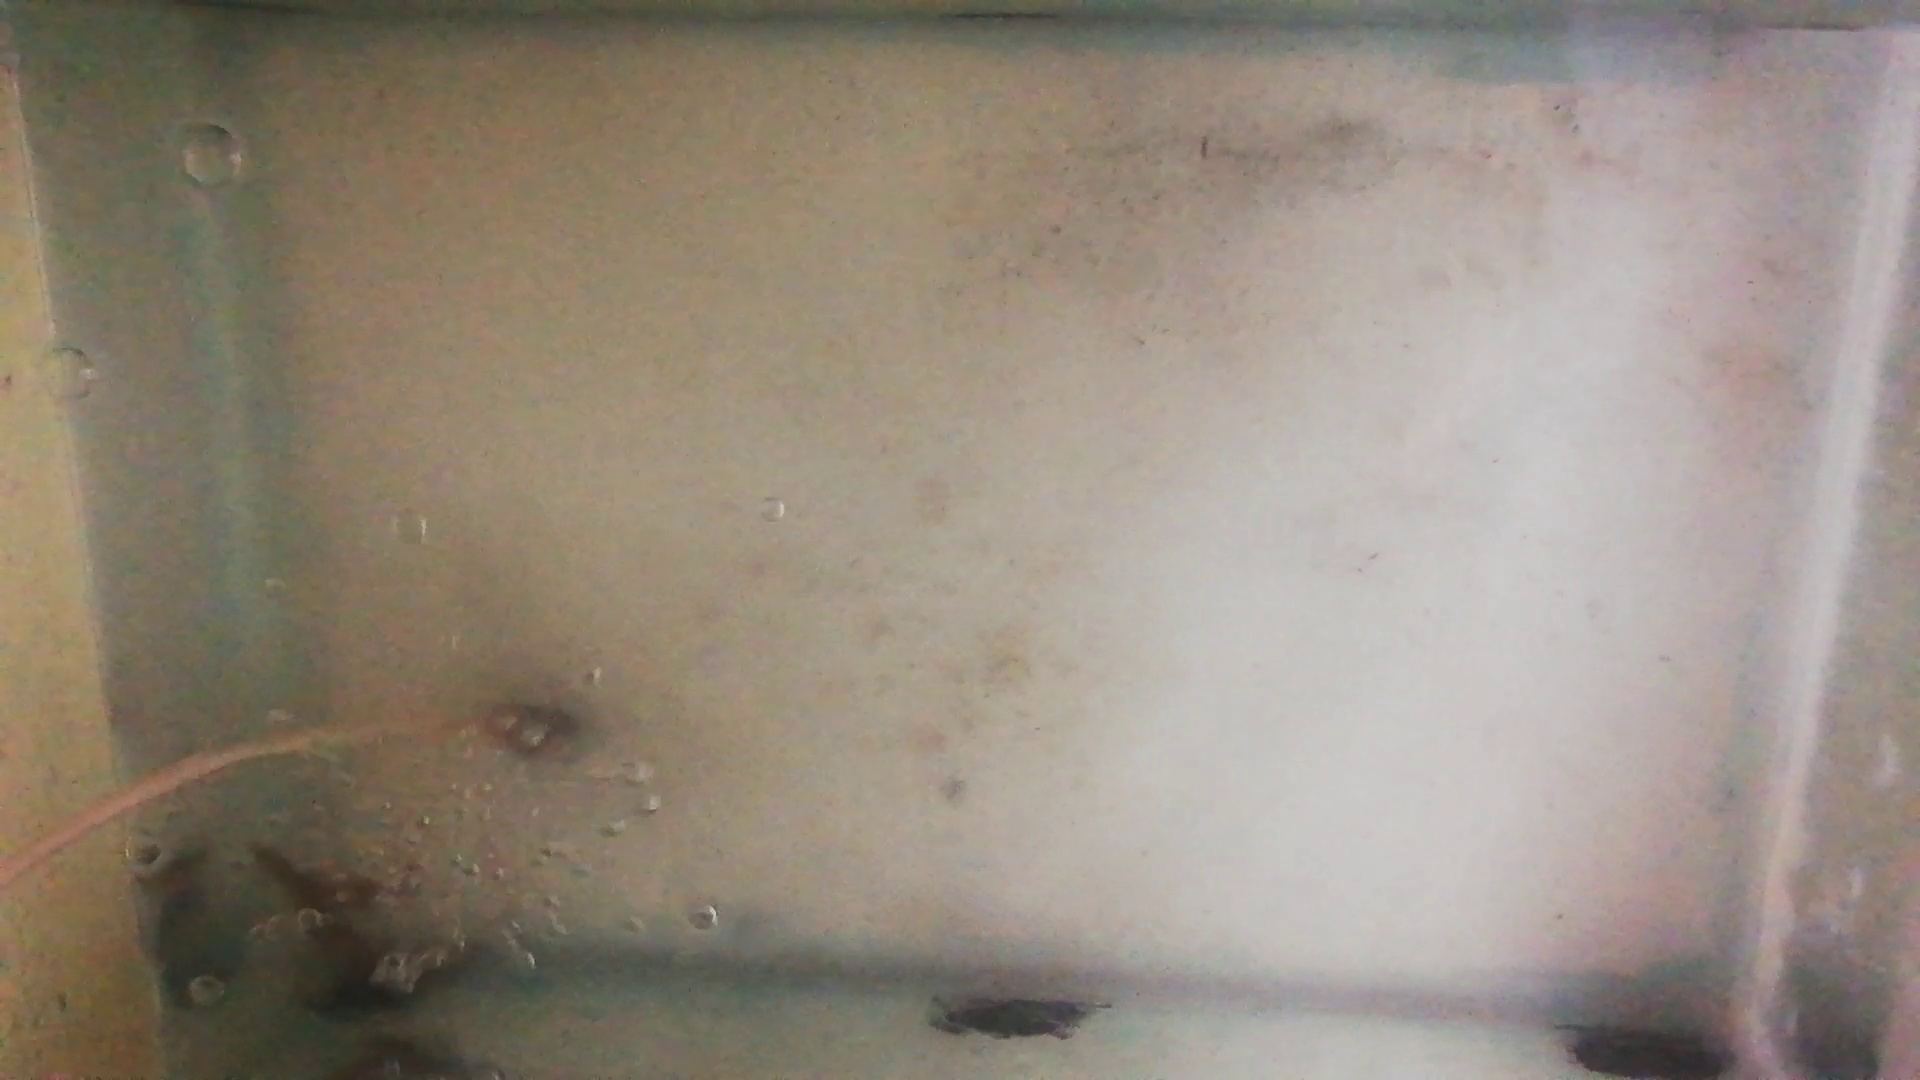fish: (311, 942, 509, 1018), (251, 835, 384, 920)
